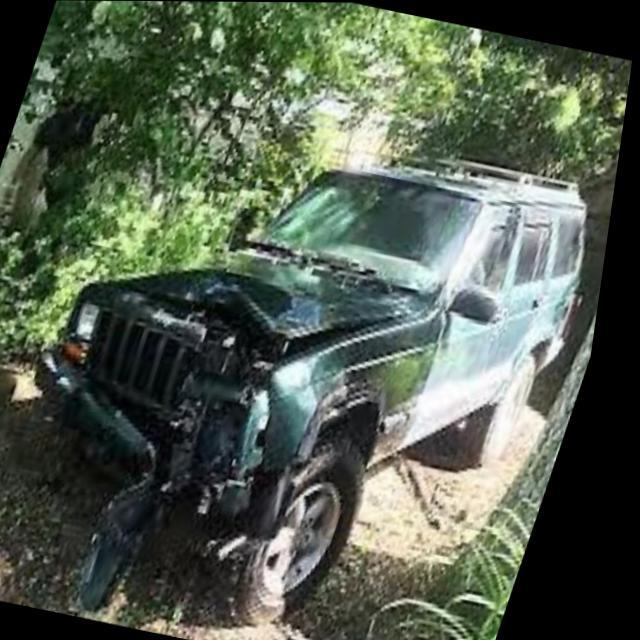dislocated part: (96, 274, 356, 614)
